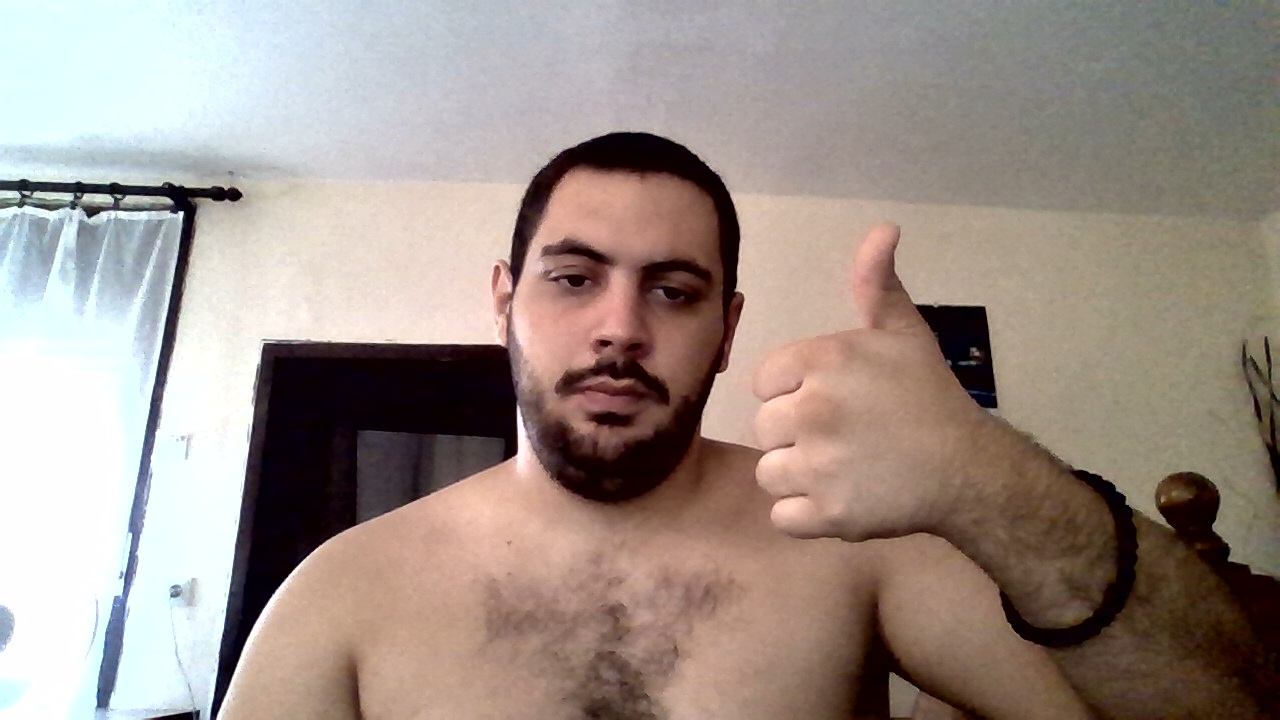like: (750, 222, 962, 536)
